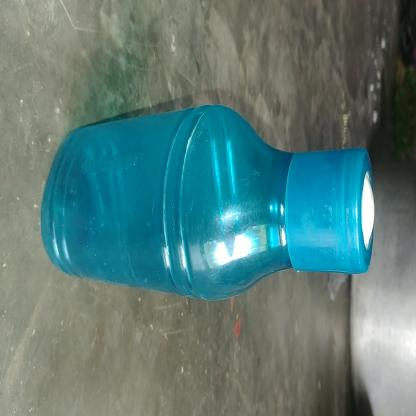bottle: (265, 1, 367, 340)
